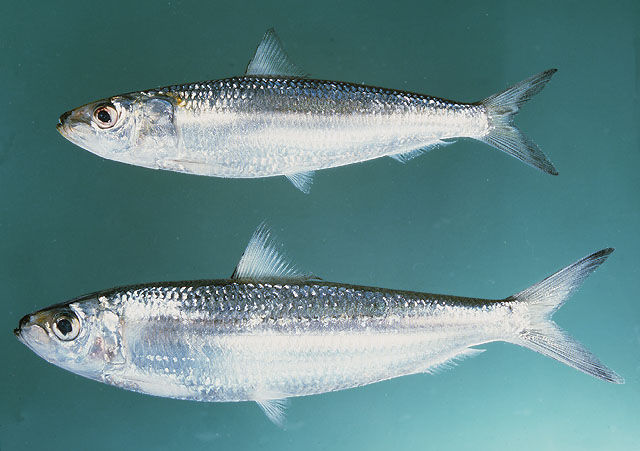fish: (12, 218, 626, 428), (55, 26, 565, 195)
